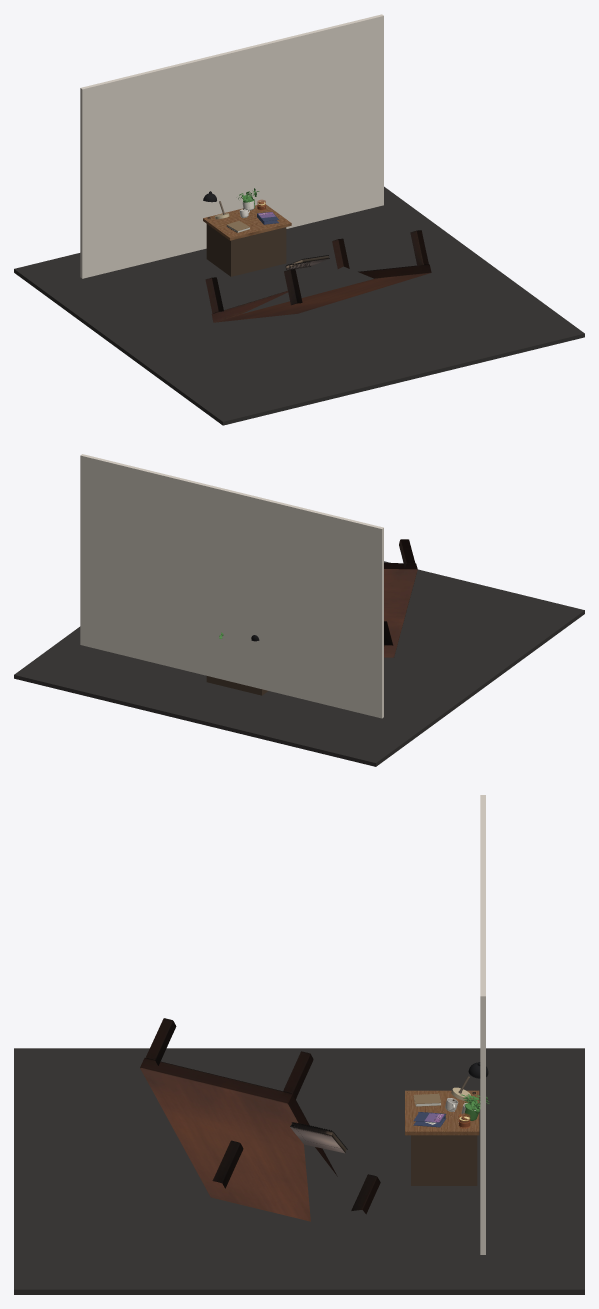
The model's file is viga.glb.
The picture shows the model from 3 angles, top to bottom: view 1: azimuth 30°, elevation 25°; view 2: azimuth 150°, elevation 25°; view 3: azimuth 270°, elevation 25°; orthographic projection. The views are drawn at different scales.
Parts seen in each view (by area): view 1: ENV_floor, ENV_wall, wooden_desk_mesh, ENV_stand, ENV_desktop; view 2: ENV_wall, ENV_floor, wooden_desk_mesh, ENV_stand; view 3: ENV_floor, wooden_desk_mesh, ENV_stand, ENV_wall, ENV_desktop, spiral_notebook_mesh.
Part boxes in pixels (x1,y1,x2,y2): ENV_floor: [14, 186, 584, 425]; ENV_wall: [80, 14, 383, 278]; wooden_desk_mesh: [205, 230, 431, 322]; ENV_stand: [206, 224, 286, 276]; ENV_desktop: [203, 204, 291, 240]; ENV_wall: [80, 454, 383, 718]; ENV_floor: [14, 561, 584, 766]; wooden_desk_mesh: [384, 539, 417, 657]; ENV_stand: [206, 676, 267, 695]; ENV_floor: [14, 1048, 584, 1294]; wooden_desk_mesh: [140, 1018, 380, 1221]; ENV_stand: [411, 1135, 477, 1185]; ENV_wall: [480, 795, 485, 1254]; ENV_desktop: [405, 1090, 479, 1135]; spiral_notebook_mesh: [290, 1122, 347, 1153].
Bounding box in the file's own units: 6 × 3.38 × 6.
32 materials, 6 textured.
